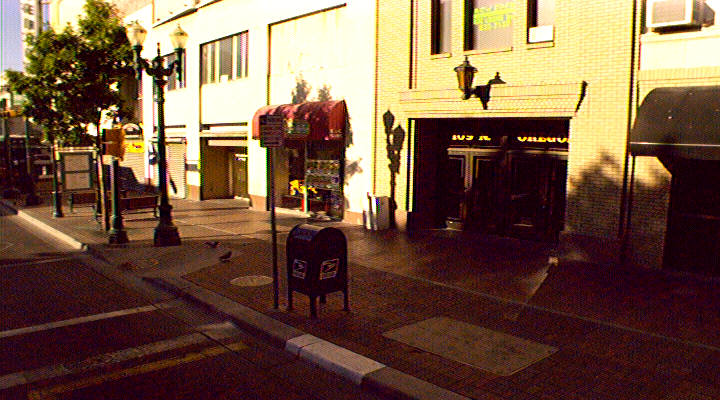Ramp: (77, 236, 247, 289)
